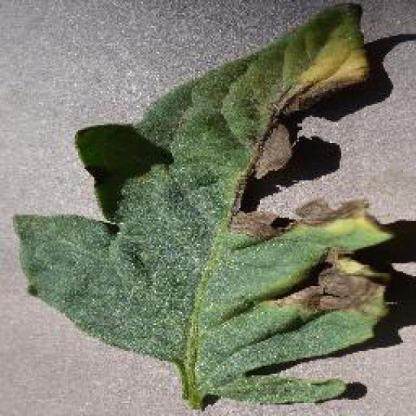Tomato_Blight: (13, 5, 393, 403)
